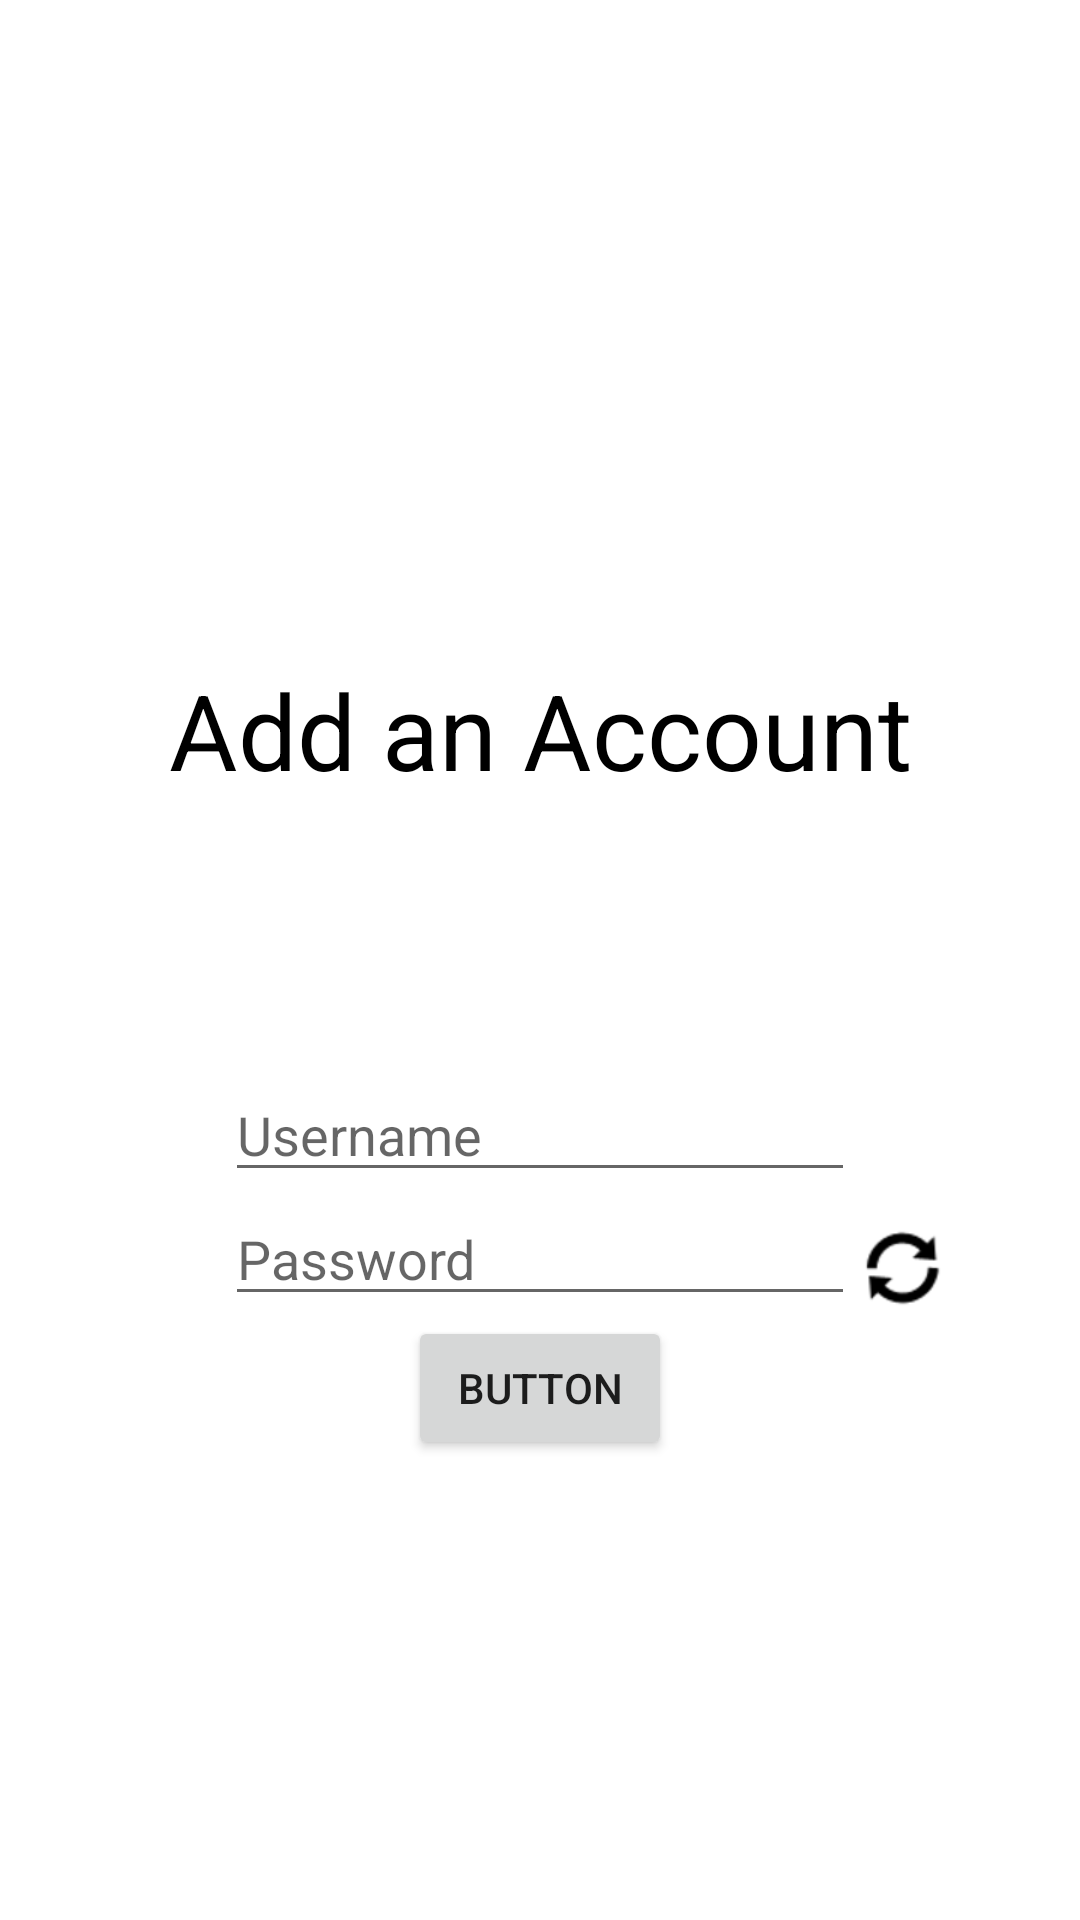

Icons on this 1080 × 1920 Android screen, each with the point to tap as (x=x, y=y):
popup sync: (x=903, y=1268)
